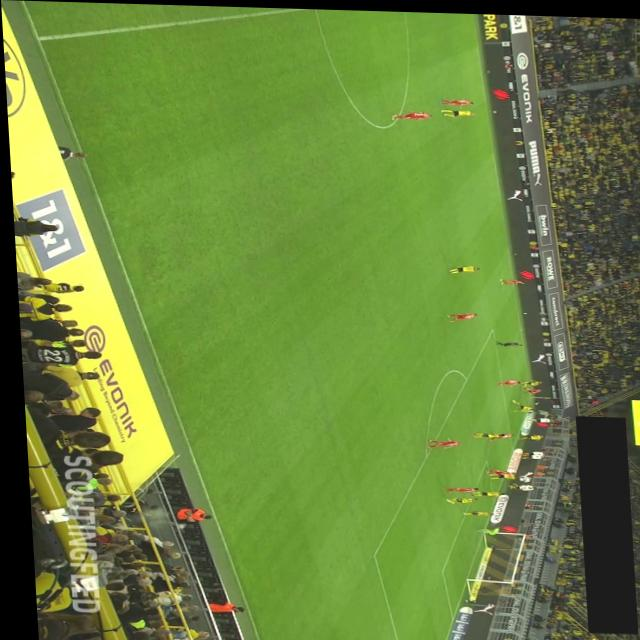goalkeeper: (467, 523, 495, 532)
player: (389, 108, 431, 121), (420, 435, 455, 447), (441, 309, 474, 321), (443, 263, 478, 272), (481, 428, 509, 439), (505, 399, 530, 410), (439, 107, 474, 114), (513, 376, 537, 386), (438, 96, 472, 103), (467, 429, 499, 436), (465, 488, 496, 495), (490, 376, 517, 384), (456, 508, 486, 515), (438, 484, 472, 490), (439, 495, 471, 501), (515, 384, 537, 392), (482, 471, 511, 477), (480, 467, 509, 473), (495, 276, 522, 282)
referee: (491, 339, 517, 344)
